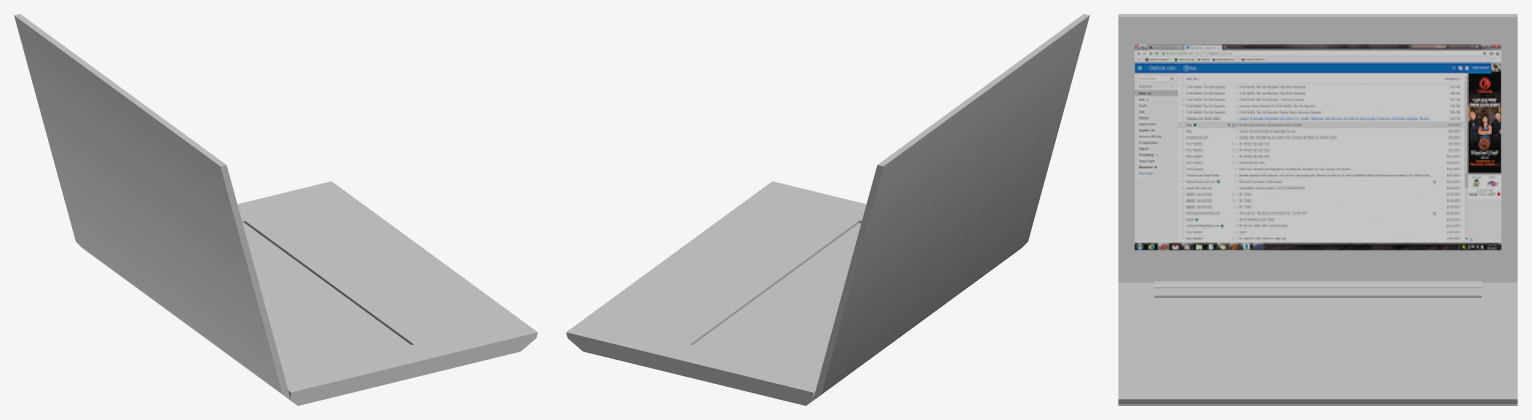
The model's file is Laptop.FBX.
3 views of the same model, side by side, from view 1: azimuth 30°, elevation 25°; view 2: azimuth 150°, elevation 25°; view 3: azimuth 270°, elevation 25° (orthographic). The views are drawn at different scales.
Parts seen in each view (by area): view 1: Lid_laptop, Laptop; view 2: Lid_laptop, Laptop; view 3: Screen_laptop, Laptop, Lid_laptop.
Boxes of the visible parts, x1,y1,x2,y2 form: Lid_laptop: (14,14,290,399); Laptop: (237,181,537,405); Lid_laptop: (813,14,1089,399); Laptop: (566,181,866,405); Screen_laptop: (1134,44,1501,250); Laptop: (1118,282,1517,405); Lid_laptop: (1118,14,1517,288).
Bounding box in the file's own units: 0.3582 × 0.2786 × 0.4032.
